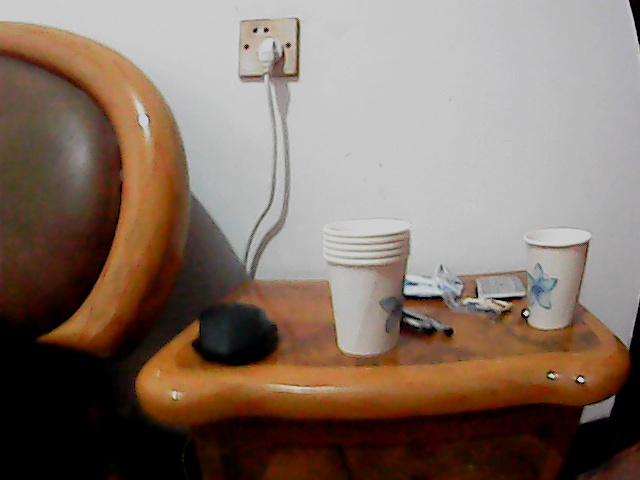cup: (317, 216, 412, 359)
mouse: (188, 301, 289, 371)
